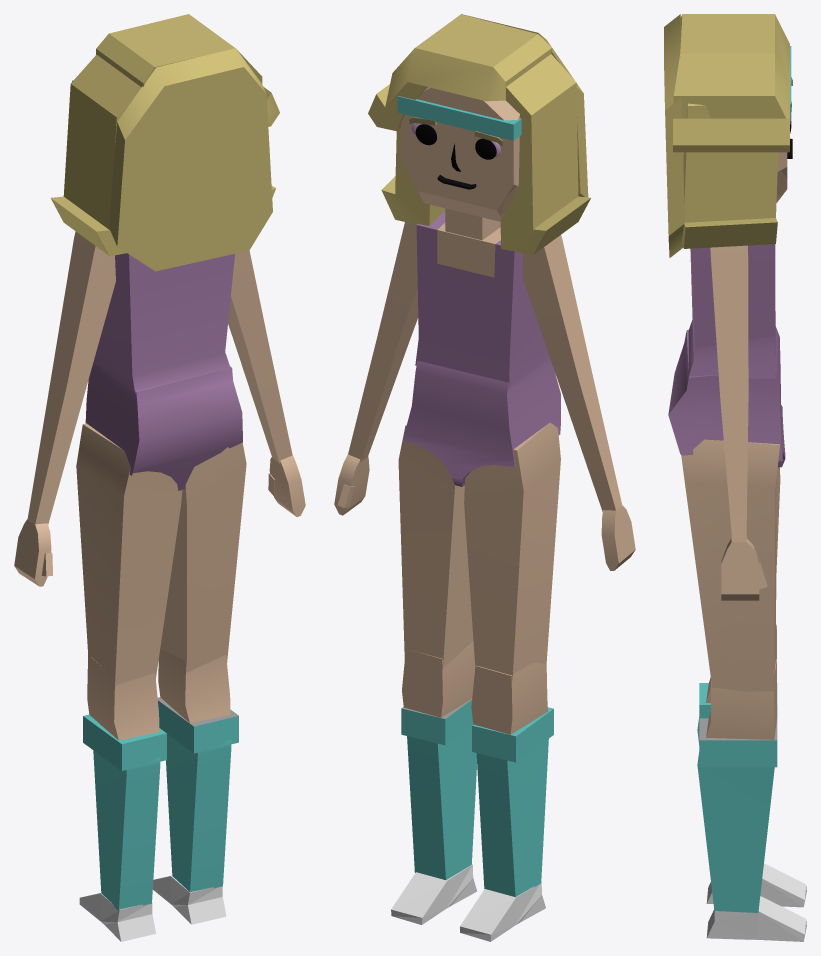
File: armsdowngirl.fbx
3 renders of one model, left to right at view 1: azimuth 30°, elevation 25°; view 2: azimuth 150°, elevation 25°; view 3: azimuth 270°, elevation 25°, orthographic. The views are drawn at different scales.
Visible parts, largest first — view 1: pCube6, pCube16, pCube8, pCube18, pCube115, pCube20, pCube148, pCube19, pCube4, pCube26, pCube3, pCube24 (+4 smaller); view 2: pCube16, pCube8, pCube20, pCube18, pCube19, pCube115, pCube4, pCube148, pCube3, pCube1, pCube26, pCube21 (+8 smaller); view 3: pCube18, pCube3, pCube19, pCube5, pCube26, pCube8, pCube115, pCube6, pCube21, pCube23, pCube46, pCube22 (+2 smaller).
Part boxes in pixels (x1=…): pCube6: x1=109, y1=48, x2=272, y2=271; pCube16: x1=76, y1=423, x2=182, y2=687; pCube8: x1=93, y1=253, x2=234, y2=393; pCube18: x1=160, y1=442, x2=246, y2=672; pCube115: x1=85, y1=363, x2=242, y2=490; pCube20: x1=87, y1=655, x2=160, y2=910; pCube148: x1=14, y1=231, x2=115, y2=586; pCube19: x1=158, y1=648, x2=231, y2=891; pCube4: x1=51, y1=54, x2=141, y2=256; pCube26: x1=228, y1=250, x2=292, y2=463; pCube3: x1=96, y1=14, x2=279, y2=126; pCube24: x1=83, y1=714, x2=166, y2=770; pCube16: x1=464, y1=422, x2=560, y2=681; pCube8: x1=415, y1=210, x2=550, y2=388; pCube20: x1=471, y1=663, x2=548, y2=897; pCube18: x1=398, y1=425, x2=473, y2=669; pCube19: x1=402, y1=641, x2=476, y2=879; pCube115: x1=402, y1=359, x2=560, y2=486; pCube4: x1=500, y1=54, x2=590, y2=254; pCube148: x1=522, y1=235, x2=635, y2=570; pCube3: x1=368, y1=14, x2=551, y2=131; pCube1: x1=401, y1=87, x2=519, y2=221; pCube26: x1=348, y1=222, x2=418, y2=461; pCube21: x1=391, y1=864, x2=477, y2=924; pCube18: x1=681, y1=439, x2=779, y2=691; pCube3: x1=673, y1=14, x2=789, y2=152; pCube19: x1=697, y1=659, x2=776, y2=912; pCube5: x1=681, y1=103, x2=778, y2=248; pCube26: x1=710, y1=245, x2=748, y2=541; pCube8: x1=688, y1=244, x2=775, y2=378; pCube115: x1=668, y1=326, x2=785, y2=467; pCube6: x1=664, y1=14, x2=684, y2=257; pCube21: x1=706, y1=896, x2=806, y2=941; pCube23: x1=699, y1=718, x2=777, y2=767; pCube46: x1=721, y1=538, x2=759, y2=600; pCube22: x1=706, y1=863, x2=806, y2=907.
Bounding box in the file's own units: 3.52 × 10.5 × 1.54.
